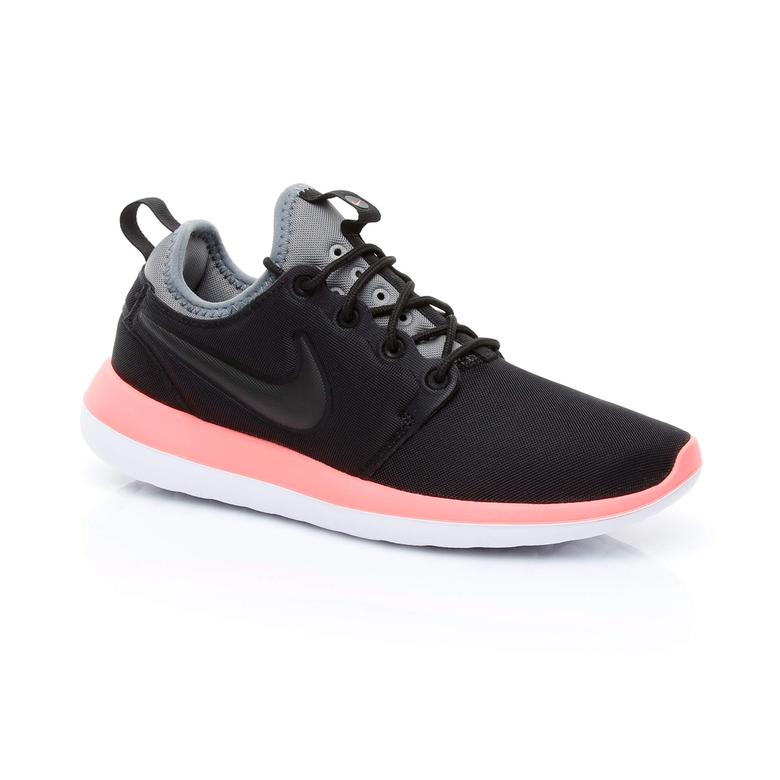nike: (138, 315, 335, 448)
